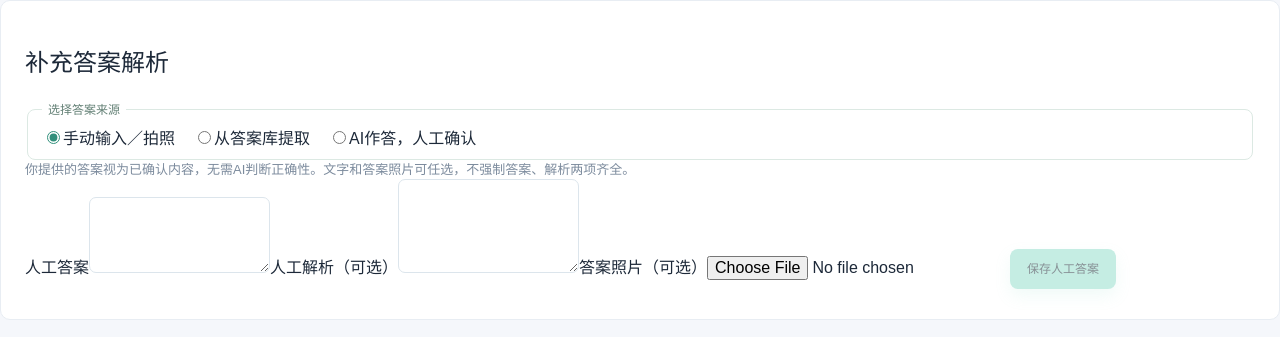
answer-source decisions › manual explanation alone can be saved
In the text box labelled "人工解析（可选）": (488, 226) [398,179,579,273], type "等式两边减去1"
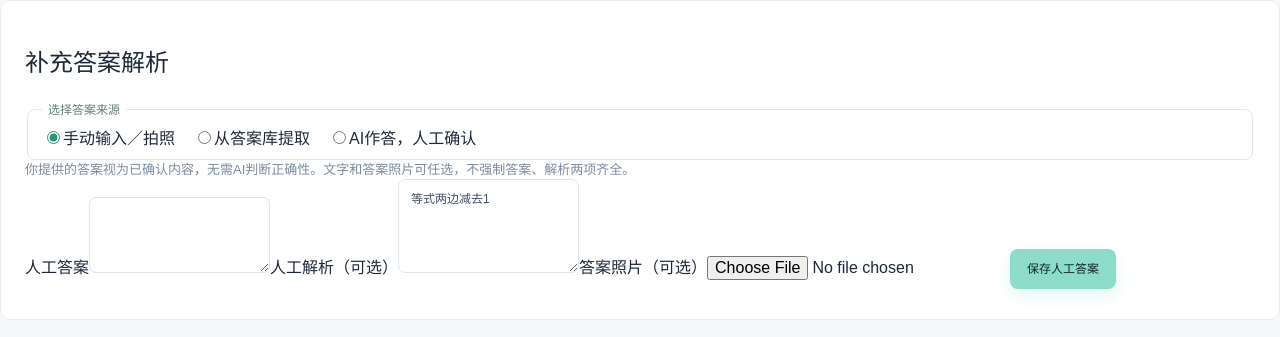
Check: the button "保存人工答案" is enabled, box [1010,249,1116,289]
